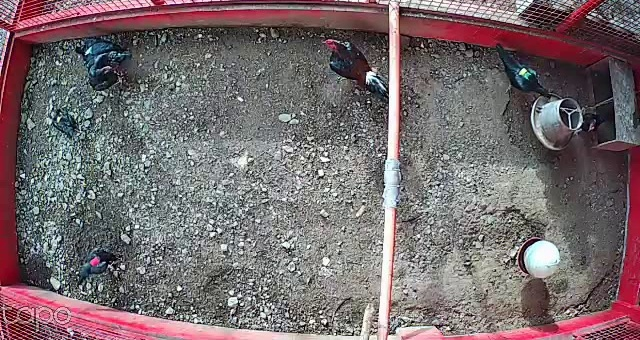Chicken: (490, 42, 552, 100), (72, 36, 143, 73), (75, 56, 132, 95), (76, 243, 128, 282), (46, 99, 86, 139), (575, 111, 605, 136)
Rooster: (319, 31, 390, 103)
Saddle_Color_Red: (89, 258, 101, 267)
Saddle_Color_YellowGreen: (518, 65, 531, 79)
